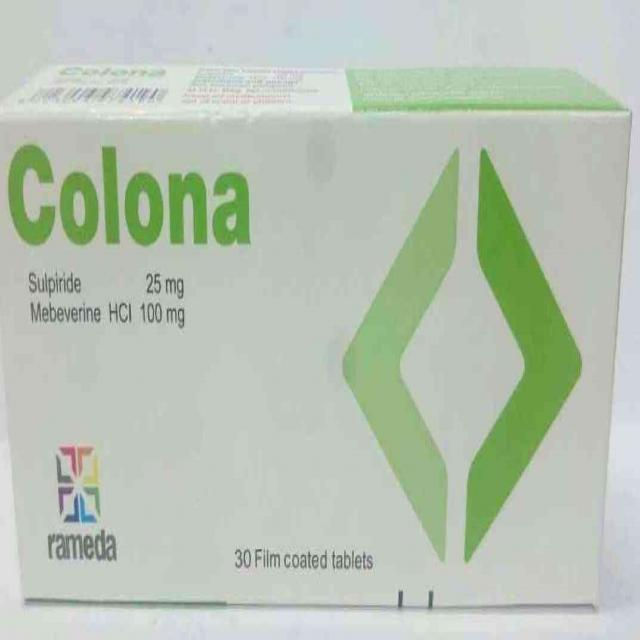drug-name: (6, 140, 254, 253)
